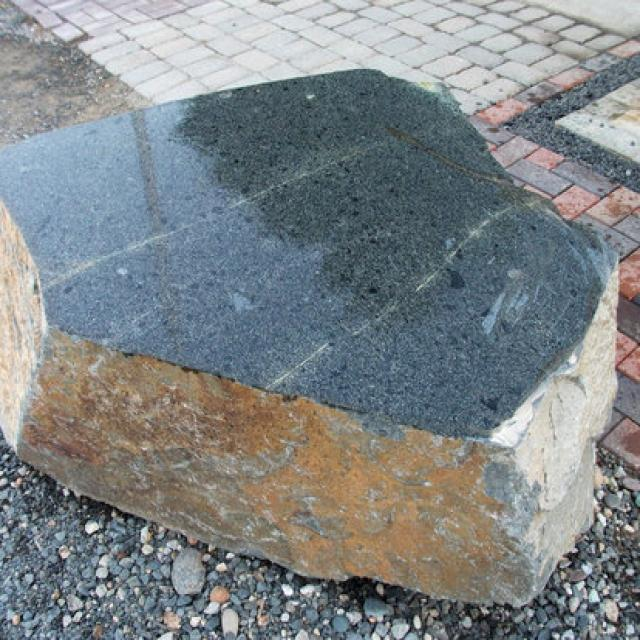Igneous: (2, 54, 615, 609)
